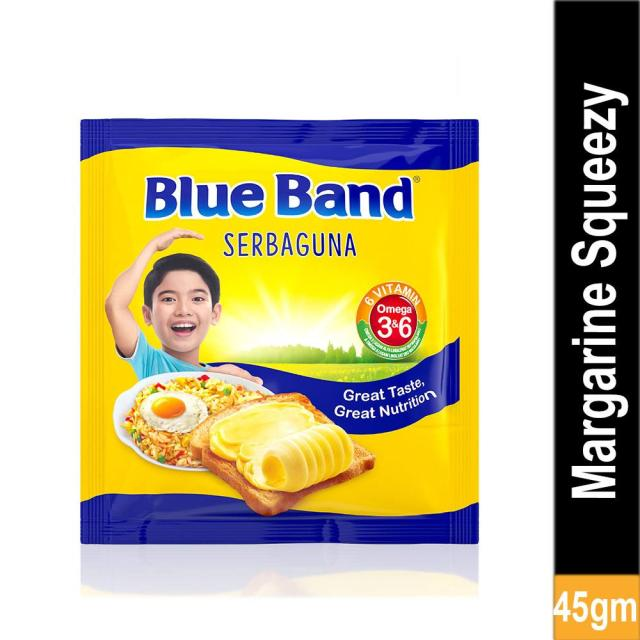butter: (42, 86, 523, 612)
